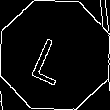L_NE: (30, 26, 80, 84)
